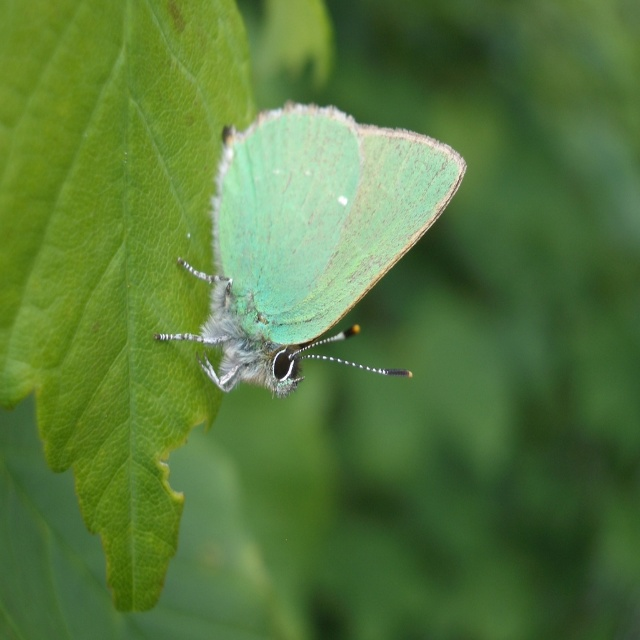Butterfly: (152, 98, 458, 437)
